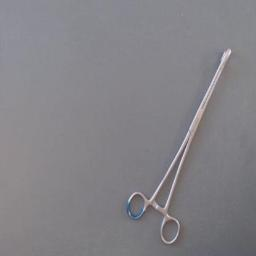Sponge Forceps: (123, 40, 237, 252)
